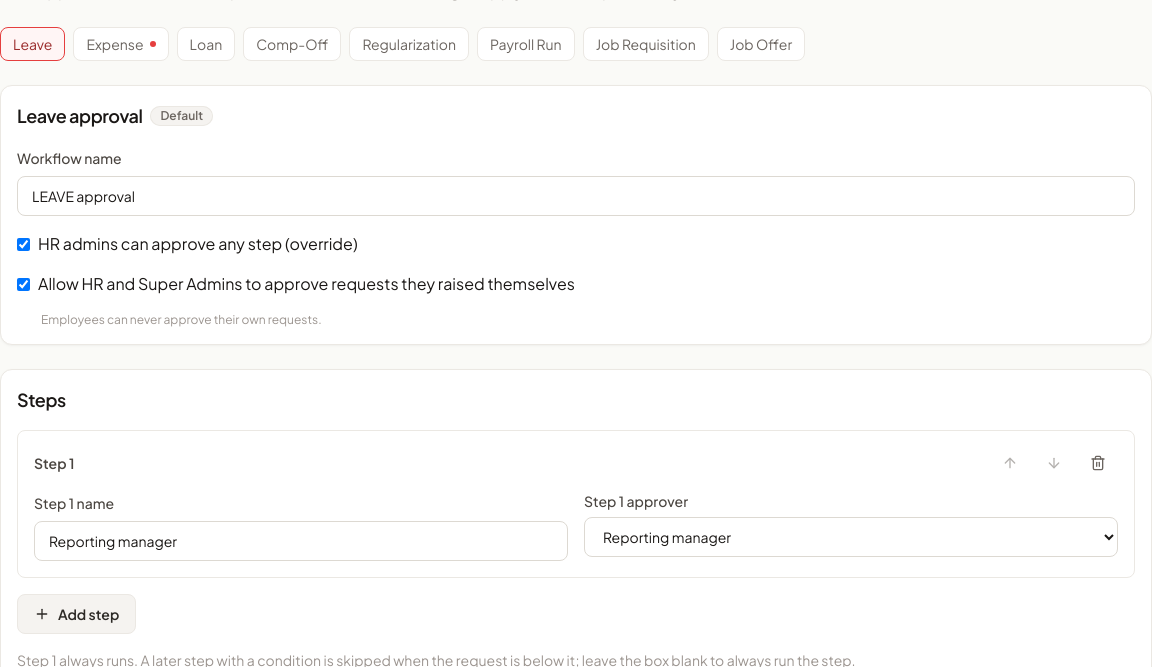
it: WorkflowBuilderPage › resets a custom chain to the default after confirming
The width and height of the screenshot is (1152, 667).
Expected: the field labelled "Step 1 name" is shown, 34,521 -> 568,561
What coordinates should you click on to do the following:
click the tab "Expense"
I would click on:
 (121, 44)
Its box is 74,27 -> 169,61.
(page scrolled)
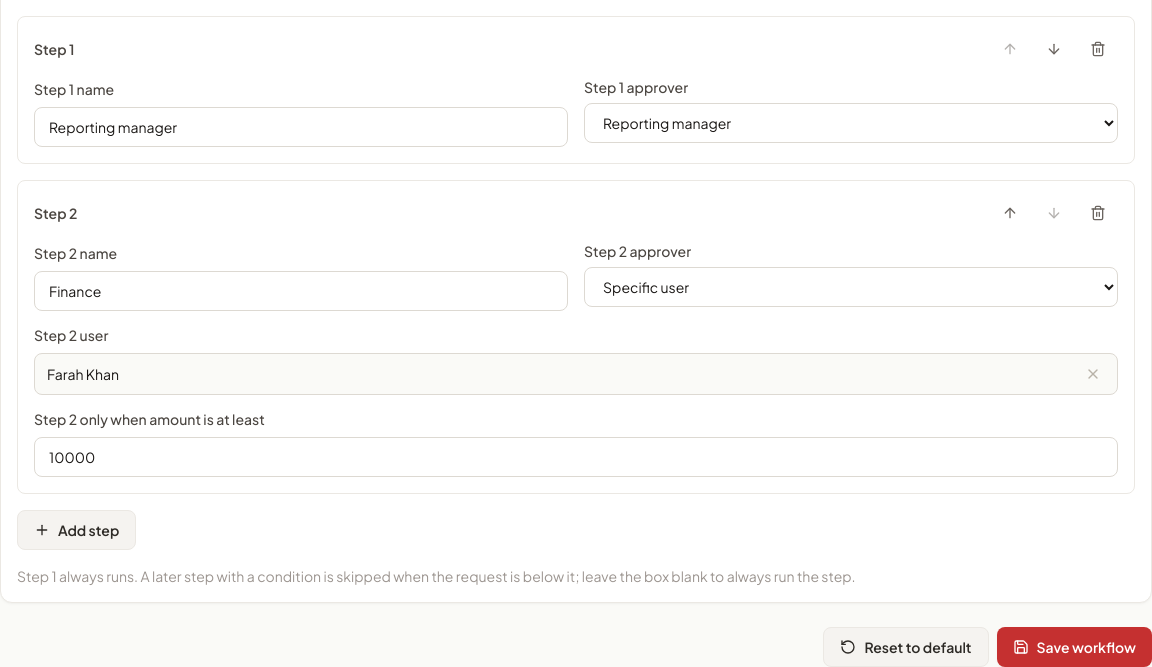
What coordinates should you click on to do the following:
click the button "Reset to default"
I would click on:
 (906, 647)
Its box is 823,627 -> 988,666.
(page scrolled)
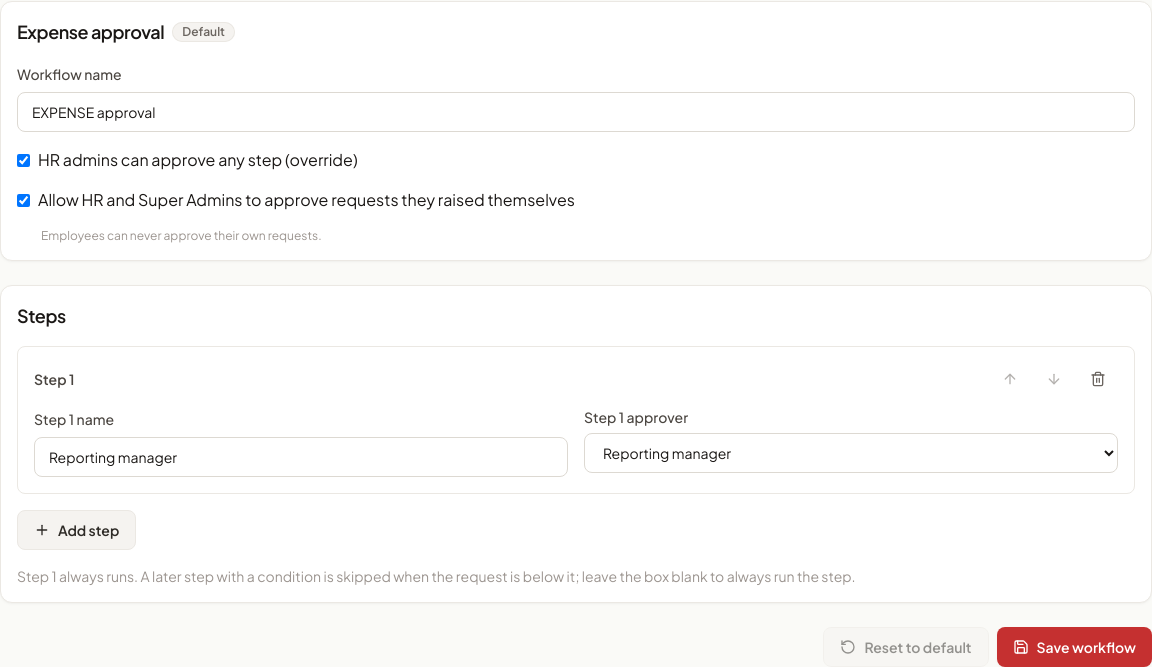
Now the text "Default" is shown, box 172,22 -> 235,42
Now the label labelled "Step 2 name" is gone
